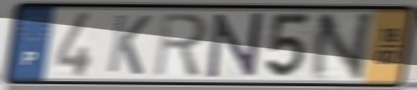4: (52, 9, 94, 80)
5: (266, 11, 315, 81)
K: (104, 12, 154, 78)
N: (306, 10, 379, 83), (206, 10, 265, 81)
R: (151, 11, 210, 79)
